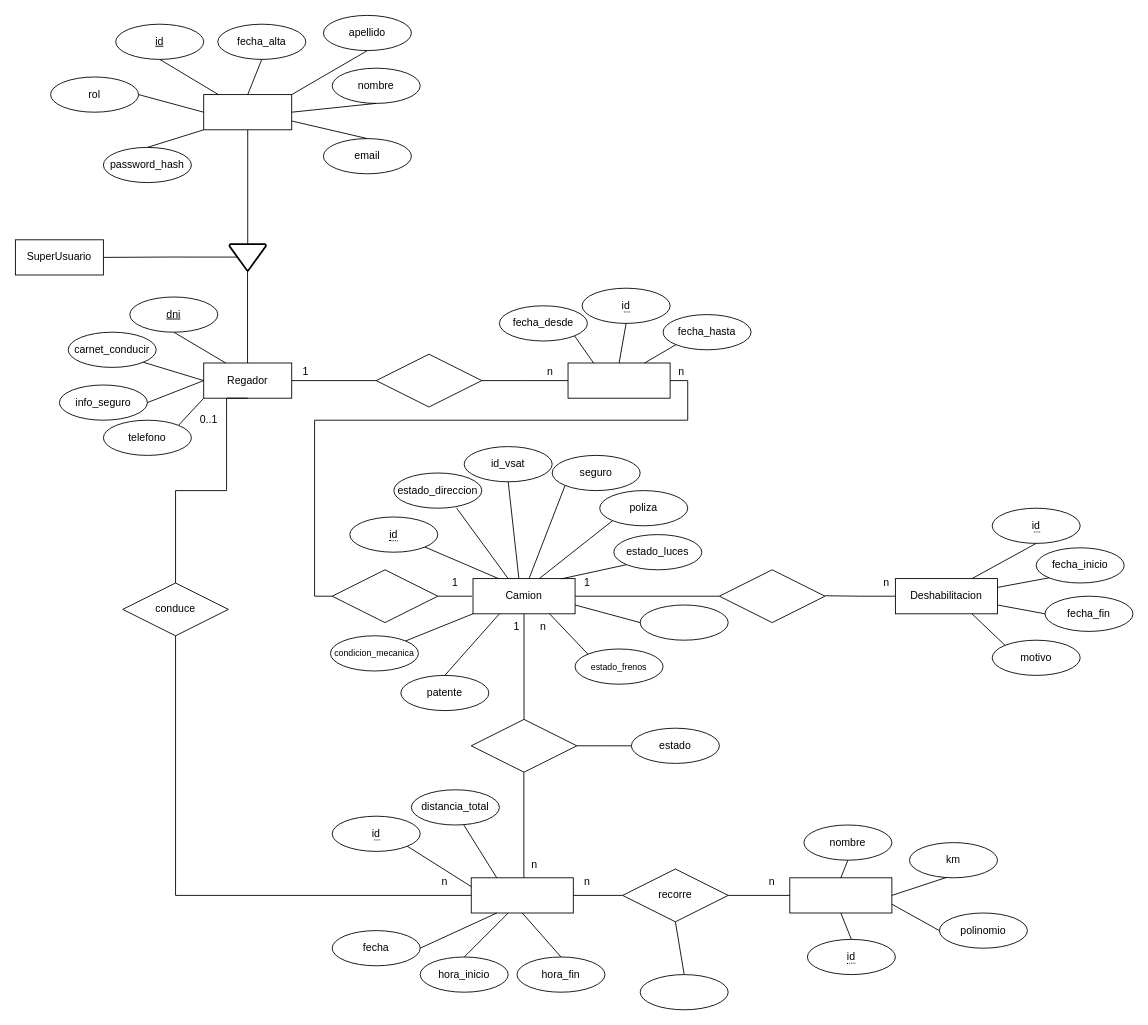
The diagram is 1148 pixels wide and 1025 high, and some of its shapes have lost their labels. Each missing label, with the centre of its shape:
"AsignacionCamion" goes at point (618, 380).
"asignado" goes at point (384, 596).
"historial" goes at point (772, 596).
"ISA" goes at point (247, 257).
"km_recorridos" goes at point (683, 992).
"realiza" goes at point (523, 745).
"recibe" goes at point (428, 380).
"Recorrido" goes at point (521, 895).
"Usuario" goes at point (247, 112).
"Vecinal" goes at point (840, 895).
"vtv_venc" goes at point (683, 622).
